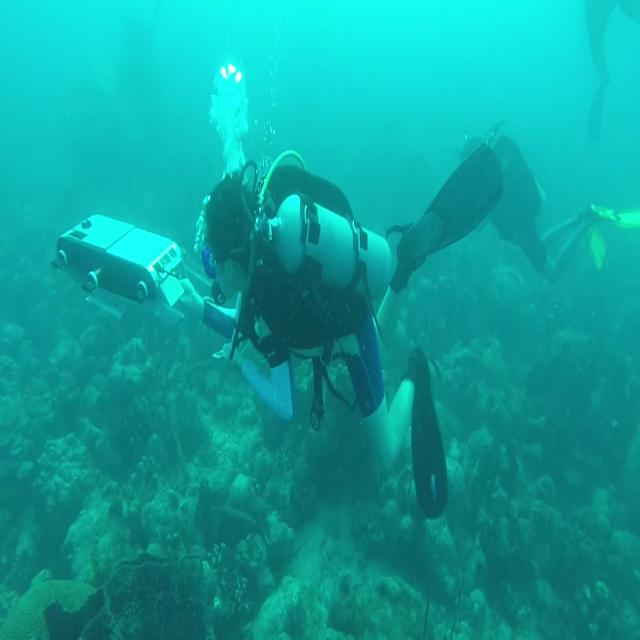human: (177, 154, 450, 519)
